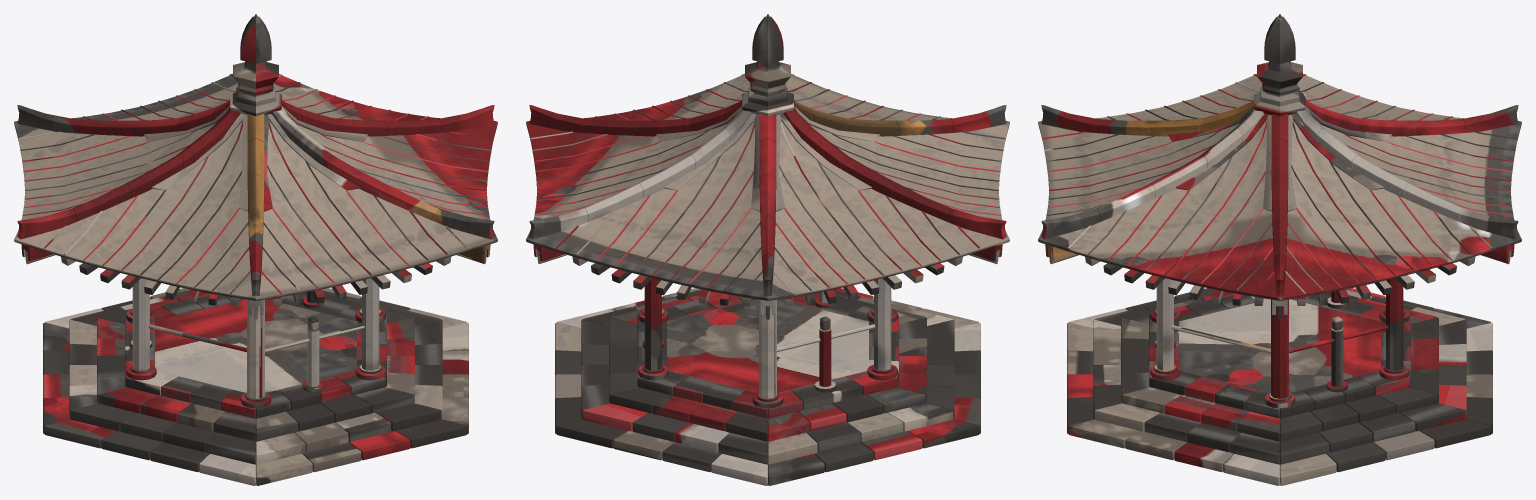
Rendered from pavilion_1.fbx.
3 views of the same model, side by side, from view 1: azimuth 30°, elevation 25°; view 2: azimuth 150°, elevation 25°; view 3: azimuth 270°, elevation 25° (orthographic).
Parts seen in each view (by area): view 1: polySurface16; view 2: polySurface16; view 3: polySurface16.
Boxes of the visible parts, <box> form: polySurface16: <box>14,14,497,485</box>; polySurface16: <box>526,14,1009,485</box>; polySurface16: <box>1038,14,1521,485</box>.
Bounding box in the file's own units: 40.33 × 29.4 × 34.94.
